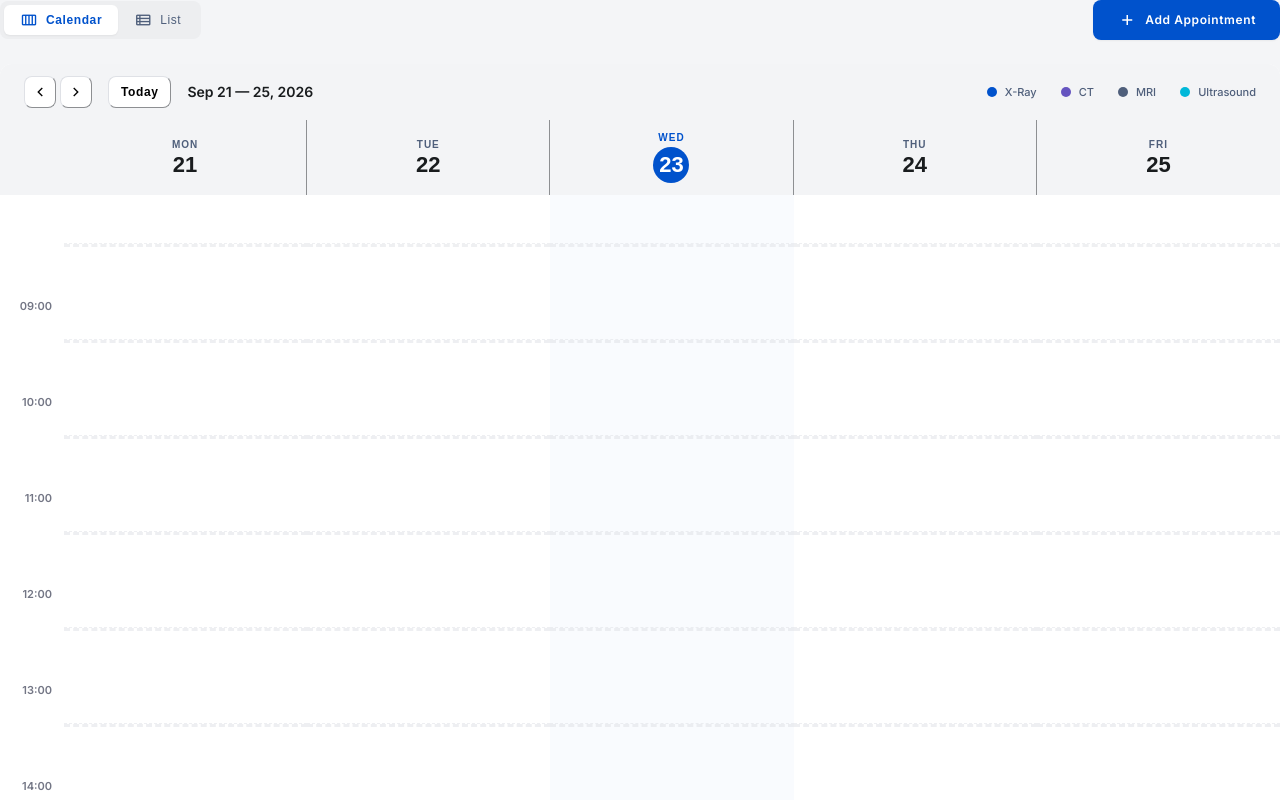
Test: ImagingSchedulePage › toggles between calendar and list view modes
Expected: the button "Today" is shown, [108, 76, 172, 108]
What coordinates should you click on to do the following:
click the button "List"
I would click on:
 (158, 20)
Its box is [118, 5, 197, 35].
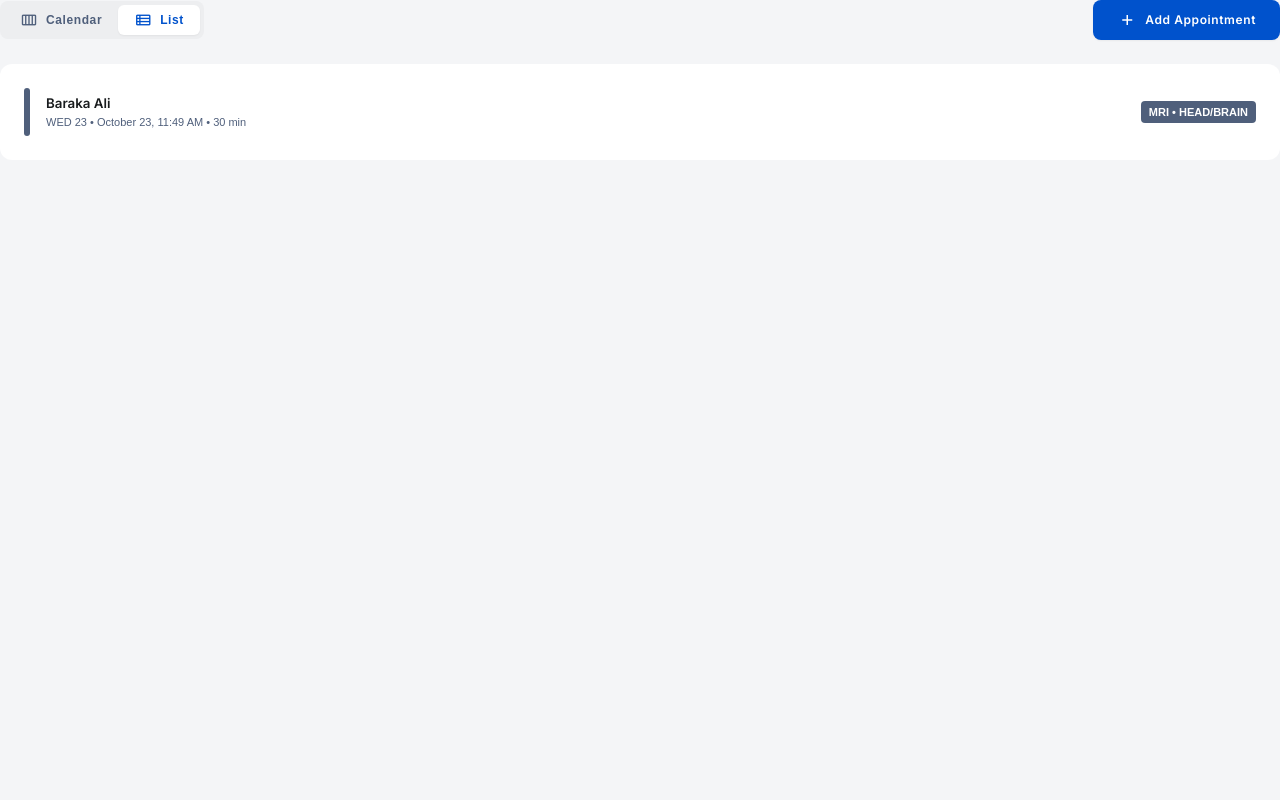
Expected: the text "Baraka Ali" is shown, [46, 95, 110, 111]
